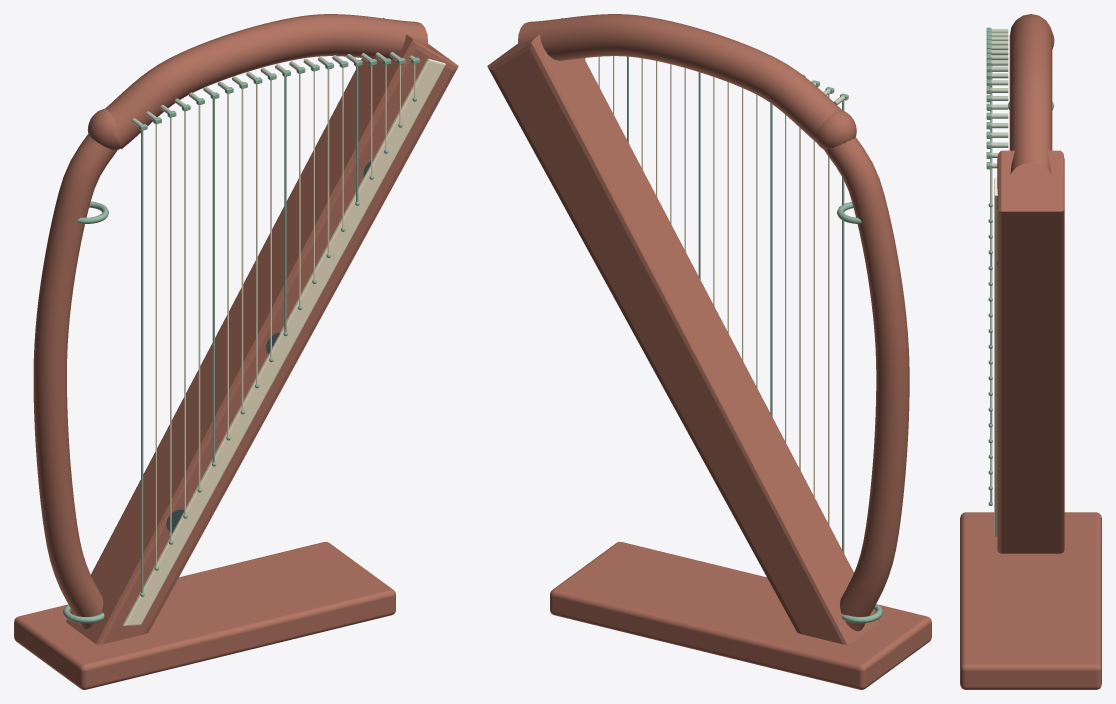
The model's file is enchanted-harp-garden-and-music-sanctuary-concert-harp-eb39b3da__30401.glb.
3 renders of one model, left to right at view 1: azimuth 30°, elevation 25°; view 2: azimuth 150°, elevation 25°; view 3: azimuth 270°, elevation 25°, orthographic.
Visible parts, largest first — view 1: concert-harp; view 2: concert-harp; view 3: concert-harp.
Boxes of the visible parts, left/top/right/bottom form: concert-harp: left=14, top=14, right=458, bottom=689; concert-harp: left=487, top=14, right=931, bottom=689; concert-harp: left=960, top=14, right=1101, bottom=689.
Bounding box in the file's own units: 1.68 × 2.31 × 0.5001.
